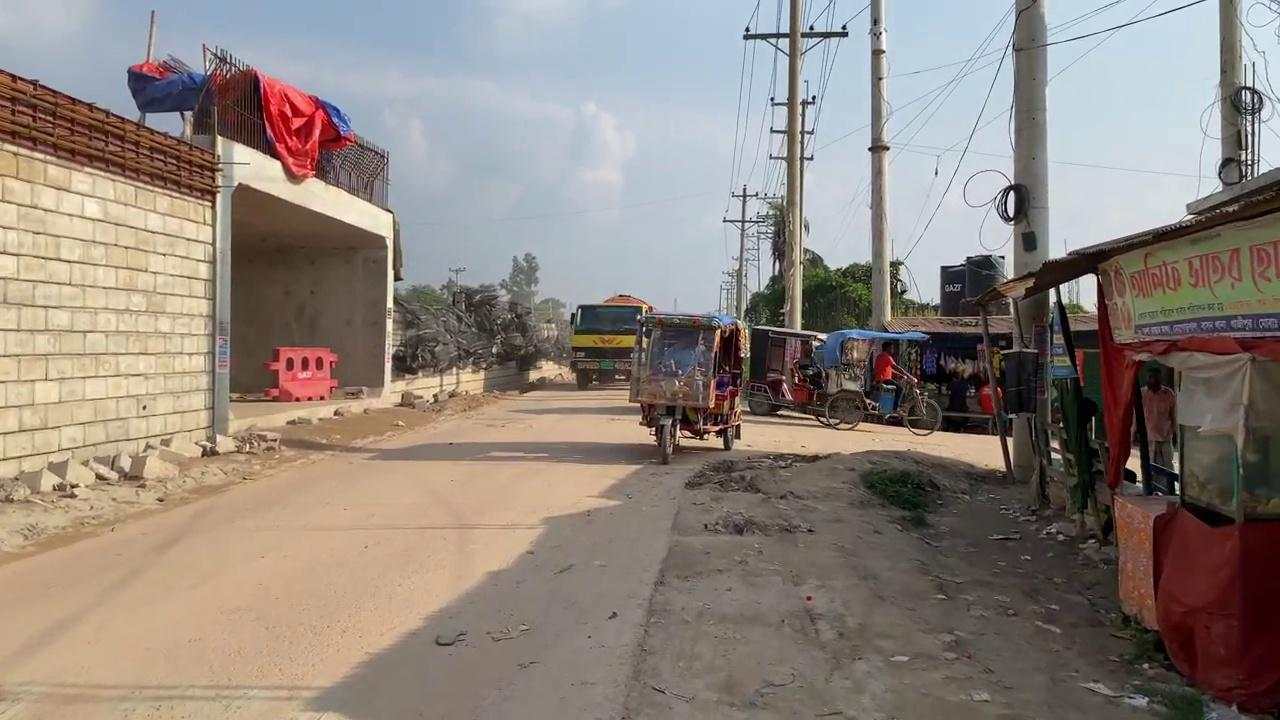Construction-barrier: (262, 344, 339, 401)
Garbage: (392, 286, 557, 375)
Muddy road: (1, 374, 971, 718)
Pole: (1010, 0, 1052, 472), (867, 1, 892, 331), (783, 1, 803, 330), (1217, 0, 1245, 186)
Traffic-sign: (506, 250, 540, 313)
Tree: (627, 311, 747, 464), (568, 292, 656, 390)
